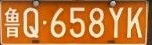Q: (23, 8, 39, 38)
